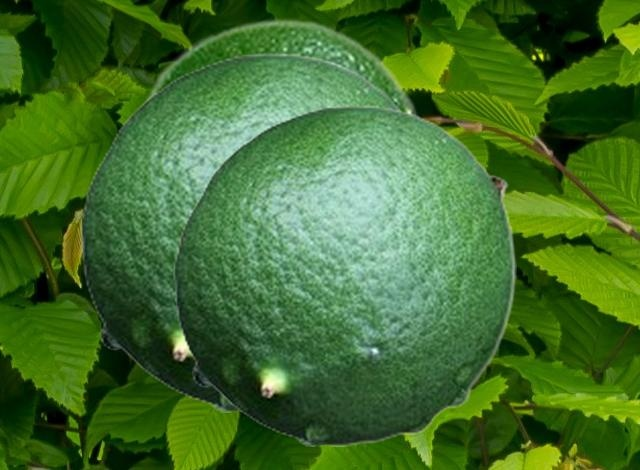calamansi: (80, 52, 406, 411), (173, 104, 515, 445), (136, 17, 425, 117)
